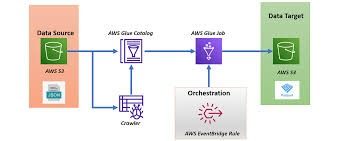glue: (196, 38, 222, 63)
s3: (273, 38, 299, 65), (40, 38, 66, 64)
